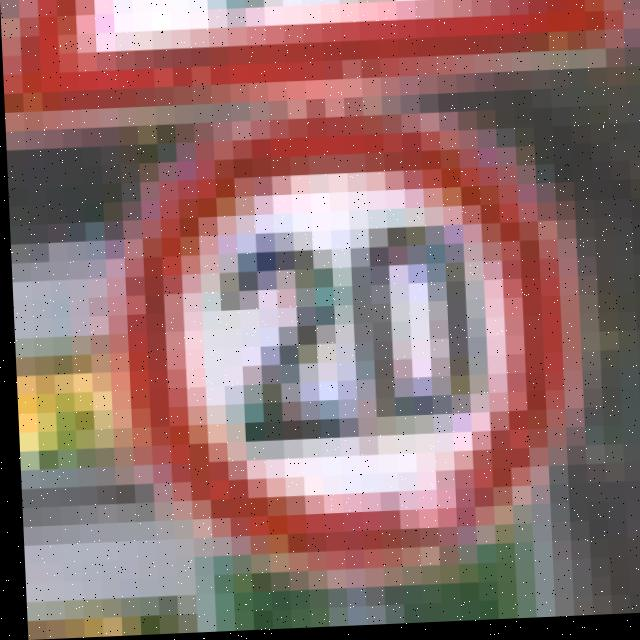speed_limit_20: (138, 111, 588, 586)
